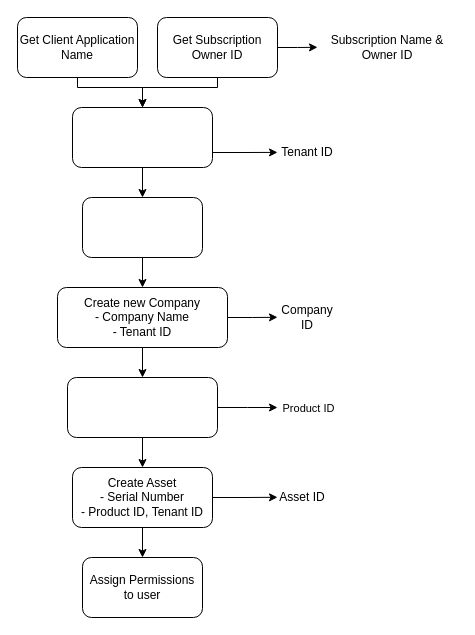
The diagram is 475 pixels wide and 635 high, and some of its shapes have lost their labels. The centre of each missing label's shape, as x and y in pixels:
"Add User to Tenant - Tenant ID" belongs at (x=142, y=227).
"Create new Tenant - Tenant Name" belongs at (x=142, y=137).
"Create Product - Product Code - Product Name - Company ID, Tenant ID" belongs at (x=142, y=407).
